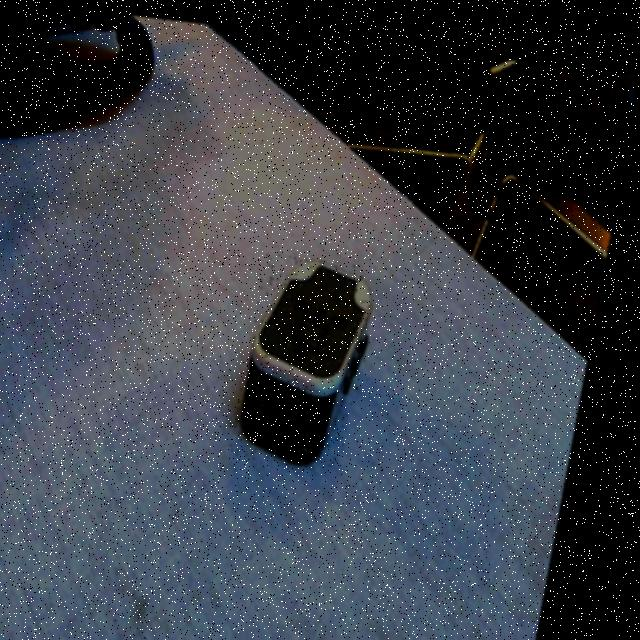adapter: (245, 246, 391, 460)
